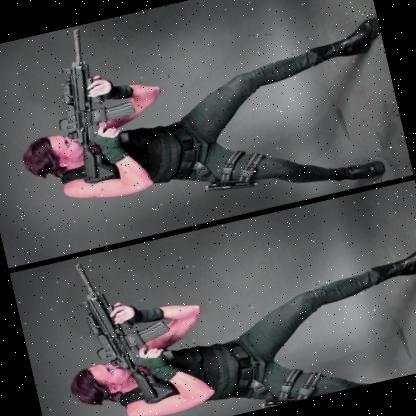rifle: (57, 252, 191, 416), (31, 25, 155, 192), (198, 172, 256, 198), (257, 385, 316, 410)
